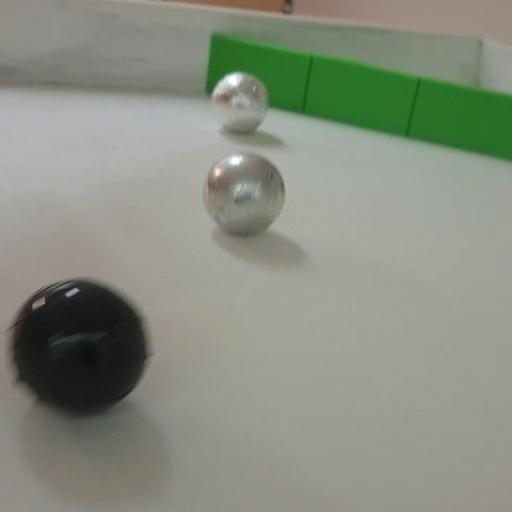alive: (204, 152, 286, 237), (212, 72, 268, 136)
dead: (5, 277, 149, 416)
